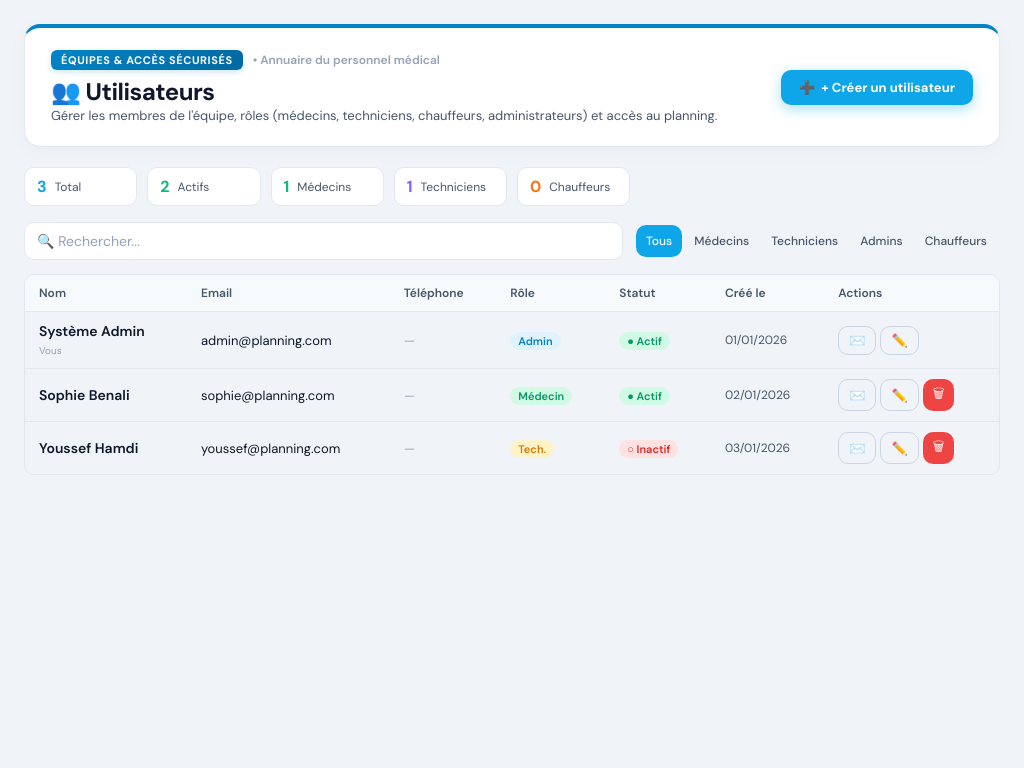
Test: Users page › opens create user modal on button click
Click the button "➕ + Créer un utilisateur" at (877,87), box left=781, top=70, right=973, bottom=104
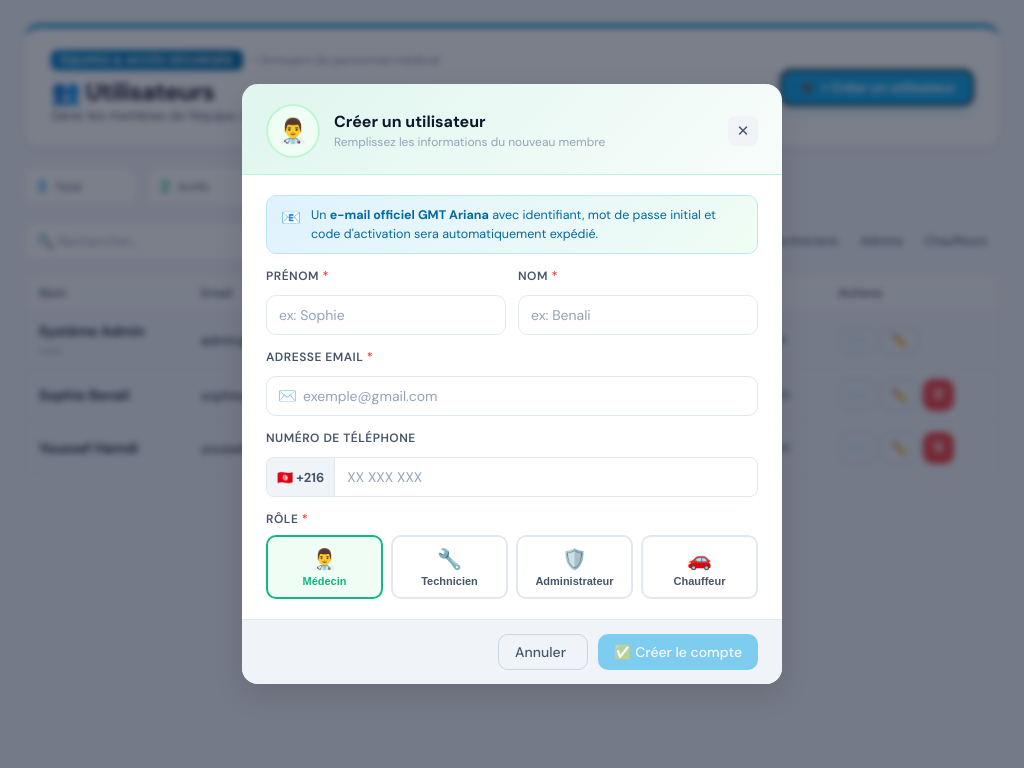
Check: the heading "Créer un utilisateur" is shown, box left=334, top=111, right=486, bottom=132
